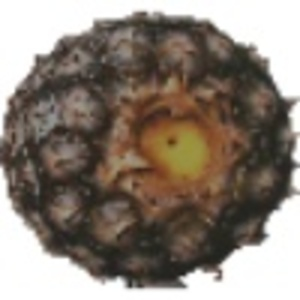abacaxi: (1, 5, 293, 280)
